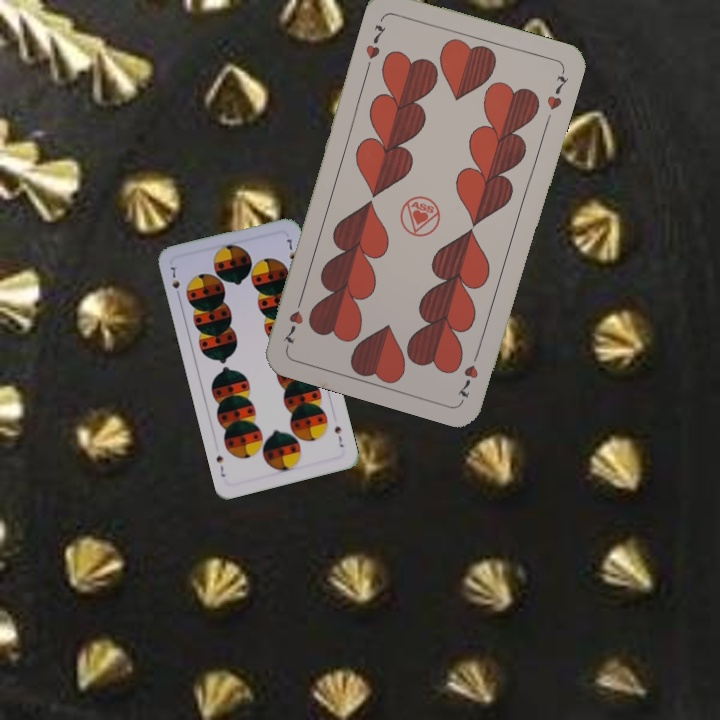H7: (453, 345, 483, 403), (361, 20, 389, 62)
S7: (166, 262, 183, 301), (330, 422, 346, 450)
